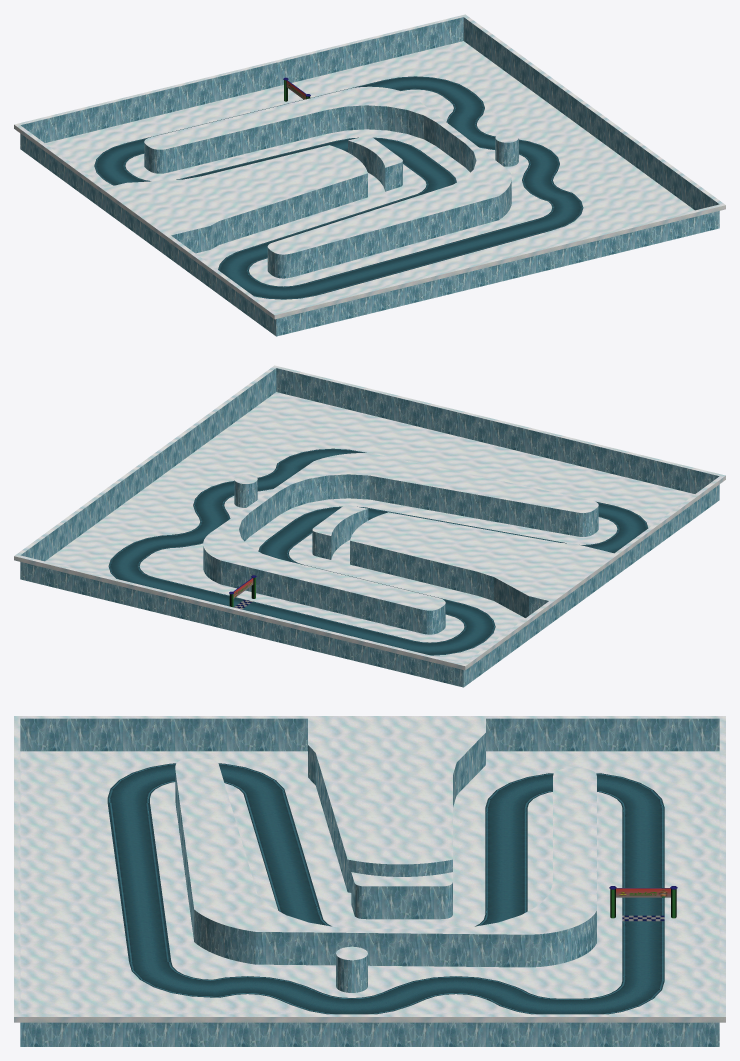
3 views of the same model, one above another, from view 1: azimuth 30°, elevation 25°; view 2: azimuth 150°, elevation 25°; view 3: azimuth 270°, elevation 25° (orthographic). The views are drawn at different scales.
Visible parts, largest first — view 1: Wong_Speed_SKP__Material2, Wong_Speed_SKP__Material1, Wong_Speed_SKP__mat5; view 2: Wong_Speed_SKP__Material2, Wong_Speed_SKP__Material1, Wong_Speed_SKP__mat5; view 3: Wong_Speed_SKP__Material2, Wong_Speed_SKP__Material1, Wong_Speed_SKP__mat5, Wong_Speed_SKP__mat8.
Boxes of the visible parts, x1,y1,x2,y2 form: Wong_Speed_SKP__Material2: (14,14,725,319); Wong_Speed_SKP__Material1: (20,17,719,336); Wong_Speed_SKP__mat5: (94,76,583,299); Wong_Speed_SKP__Material2: (14,365,725,670); Wong_Speed_SKP__Material1: (20,368,719,687); Wong_Speed_SKP__mat5: (108,448,648,655); Wong_Speed_SKP__Material2: (14,716,725,1022); Wong_Speed_SKP__Material1: (20,718,719,1046); Wong_Speed_SKP__mat5: (107,763,664,1014); Wong_Speed_SKP__mat8: (616,888,670,897).
Bounding box in the file's own units: 48082 × 2440 × 48082.
8 materials, 7 textured.
